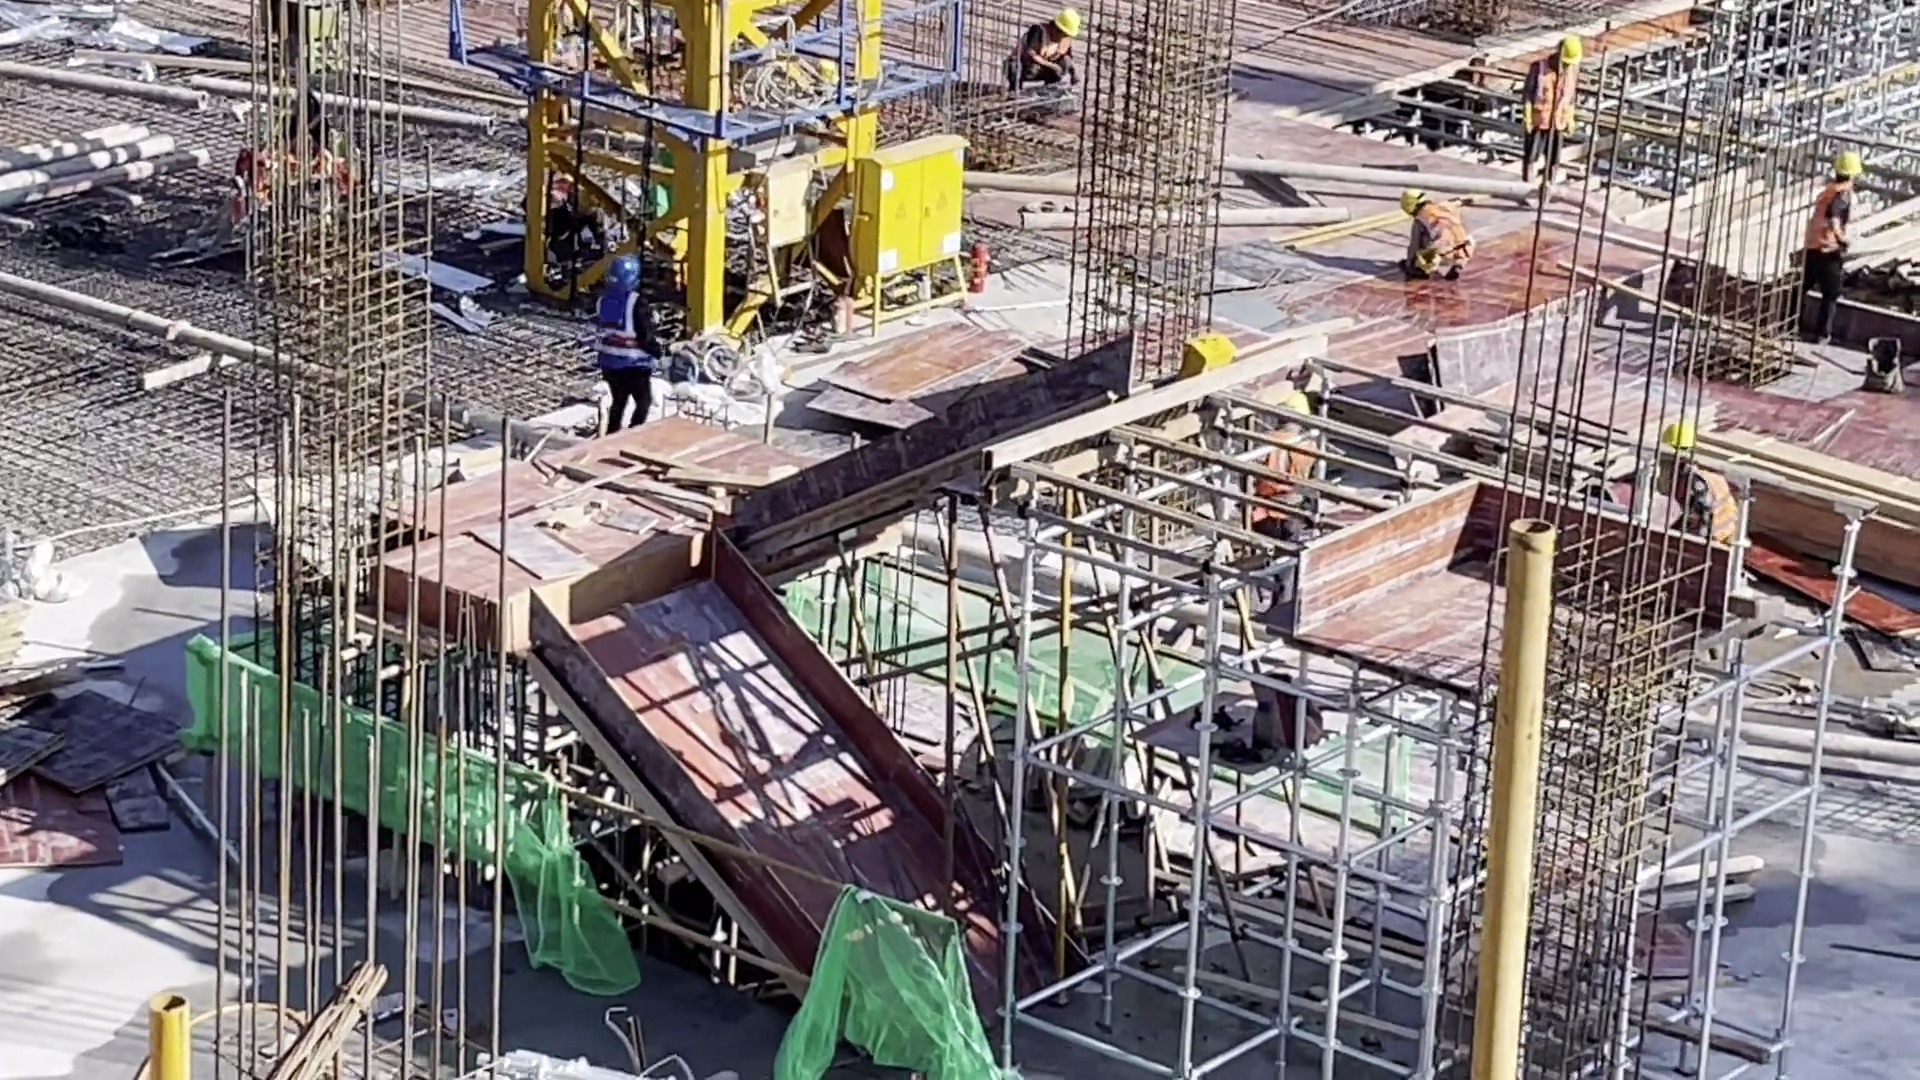helmet: (1547, 33, 1586, 70), (604, 258, 642, 290), (1397, 187, 1430, 223), (1052, 4, 1080, 38), (1828, 154, 1867, 177), (1662, 423, 1694, 448)
person: (1777, 155, 1877, 325), (586, 250, 663, 430), (1643, 423, 1746, 551), (1249, 386, 1322, 528), (1514, 33, 1584, 181), (1007, 4, 1084, 105), (1394, 191, 1470, 290)
vest: (587, 293, 651, 383), (1801, 184, 1860, 268), (1520, 61, 1578, 143), (1686, 464, 1741, 545), (1415, 205, 1473, 278), (1013, 24, 1073, 88)
